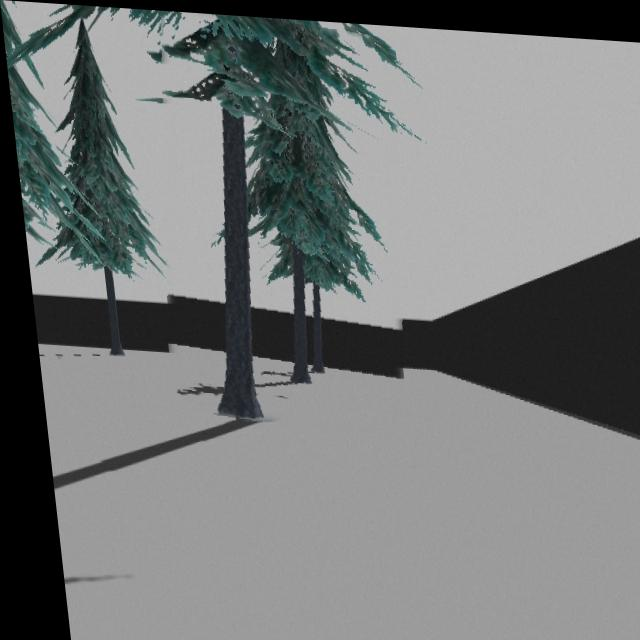tree: (160, 11, 395, 416)
